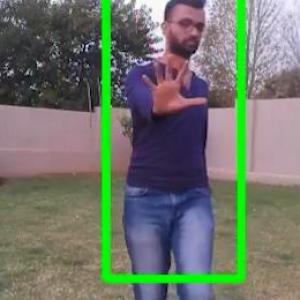follow_hand: (136, 45, 210, 121)
